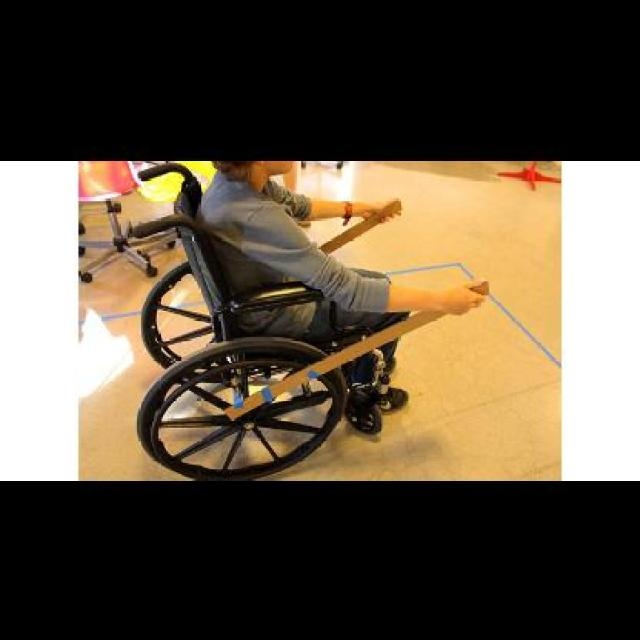wheelchairs: (127, 161, 386, 478)
